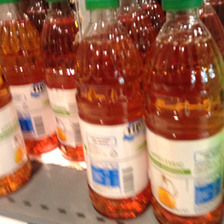vinegar: (76, 1, 150, 223), (152, 1, 221, 223), (2, 1, 58, 156), (39, 1, 90, 166)
